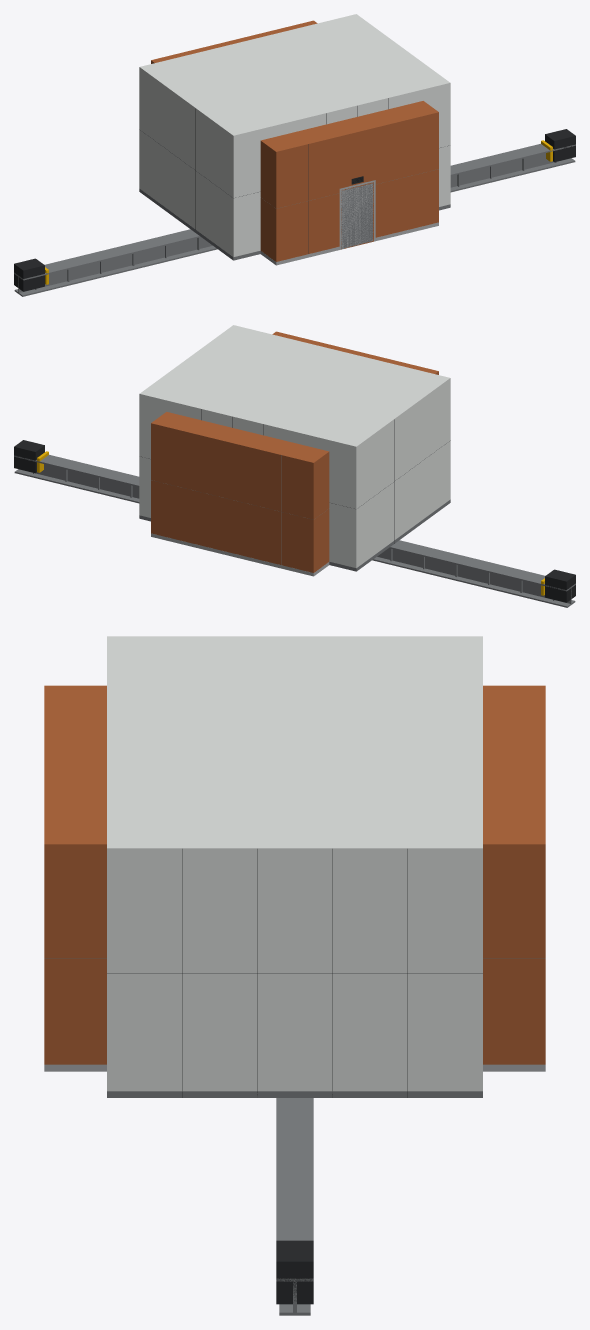
File: hero-s3.glb
3 views of the same model, one above another, from view 1: azimuth 30°, elevation 25°; view 2: azimuth 150°, elevation 25°; view 3: azimuth 270°, elevation 25° (orthographic). The views are drawn at different scales.
Parts seen in each view (by area): view 1: chamberWall.labWhite, emcPanel.copper, craneGirder.steel, emcPanel.galv, emcPanel.steel, craneGirder.steelDark, chamberWall.steel; view 2: chamberWall.labWhite, emcPanel.copper, craneGirder.steel, craneGirder.steelDark, emcPanel.galv, chamberWall.steel; view 3: chamberWall.labWhite, emcPanel.copper, craneGirder.steel, chamberWall.steel, craneGirder.steelDark, chamberWall.steelDark, emcPanel.galv.
Part boxes in pixels (<box>): chamberWall.labWhite: <box>139,14,450,257</box>; emcPanel.copper: <box>151,20,438,261</box>; craneGirder.steel: <box>14,143,575,296</box>; emcPanel.galv: <box>260,180,438,265</box>; emcPanel.steel: <box>262,144,438,253</box>; craneGirder.steelDark: <box>14,129,575,291</box>; chamberWall.steel: <box>139,188,450,260</box>; chamberWall.labWhite: <box>139,325,450,568</box>; emcPanel.copper: <box>151,331,438,572</box>; craneGirder.steel: <box>14,454,575,607</box>; craneGirder.steelDark: <box>14,440,575,602</box>; emcPanel.galv: <box>151,533,329,576</box>; chamberWall.steel: <box>139,499,450,571</box>; chamberWall.labWhite: <box>107,636,482,1091</box>; emcPanel.copper: <box>44,685,545,1064</box>; craneGirder.steel: <box>276,1098,313,1315</box>; chamberWall.steel: <box>107,1091,482,1097</box>; craneGirder.steelDark: <box>276,1240,313,1304</box>; chamberWall.steelDark: <box>107,849,482,1097</box>; emcPanel.galv: <box>44,1064,545,1071</box>.
Size of the model in its own units: 20.4 by 5.41 by 8.01.
